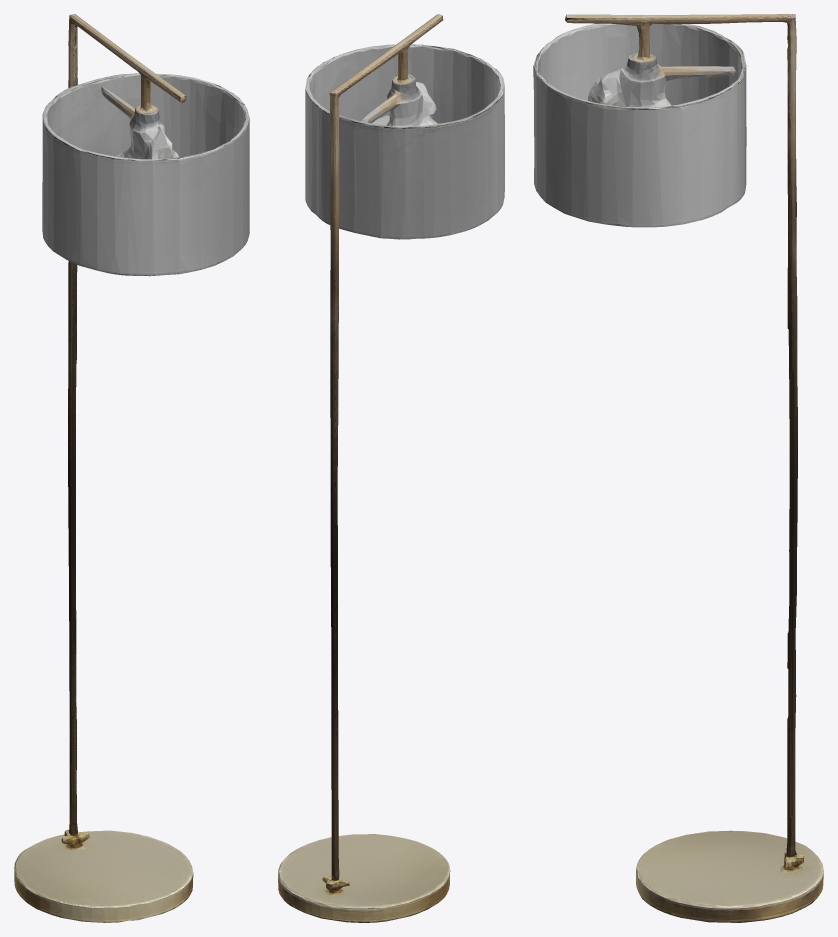
Rendered from lampModel.glb.
3 views of the same model, side by side, from view 1: azimuth 30°, elevation 25°; view 2: azimuth 150°, elevation 25°; view 3: azimuth 270°, elevation 25° (orthographic). The views are drawn at different scales.
Visible parts, largest first — view 1: world; view 2: world; view 3: world.
Part boxes in pixels (left/top/right/bottom): world: left=14, top=14, right=249, bottom=922; world: left=278, top=14, right=504, bottom=922; world: left=533, top=14, right=823, bottom=922.
Size of the model in its own units: 0.2208 by 1 by 0.3027.
Materials: 1 (1 with a texture image).
